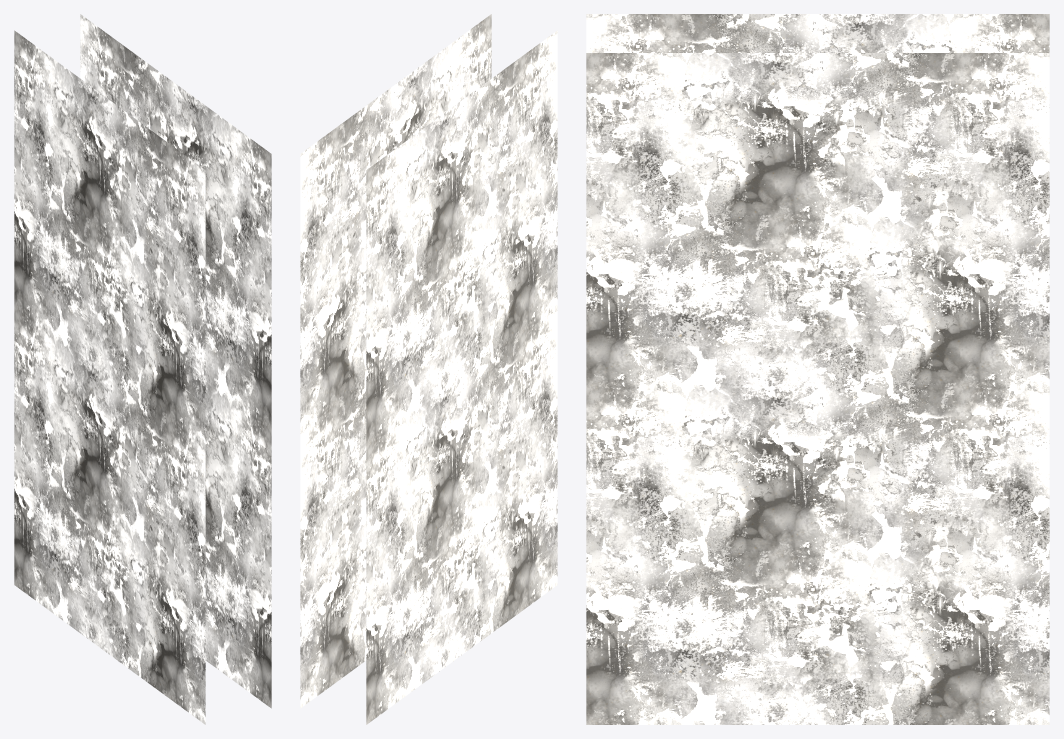
File: SM_wall_A_2-5x4_01_01.fbx
3 renders of one model, left to right at view 1: azimuth 30°, elevation 25°; view 2: azimuth 150°, elevation 25°; view 3: azimuth 270°, elevation 25°, orthographic. The views are drawn at different scales.
Parts seen in each view (by area): view 1: SM_wall_A_2-5x4_01_01_LOD0; view 2: SM_wall_A_2-5x4_01_01_LOD0; view 3: SM_wall_A_2-5x4_01_01_LOD0.
Boxes of the visible parts, left/top/right/bottom form: SM_wall_A_2-5x4_01_01_LOD0: left=14, top=14, right=271, bottom=724; SM_wall_A_2-5x4_01_01_LOD0: left=300, top=14, right=557, bottom=724; SM_wall_A_2-5x4_01_01_LOD0: left=586, top=14, right=1049, bottom=724.
Size of the model in its own units: 50 by 250 by 400.
2 materials, 2 textured.
